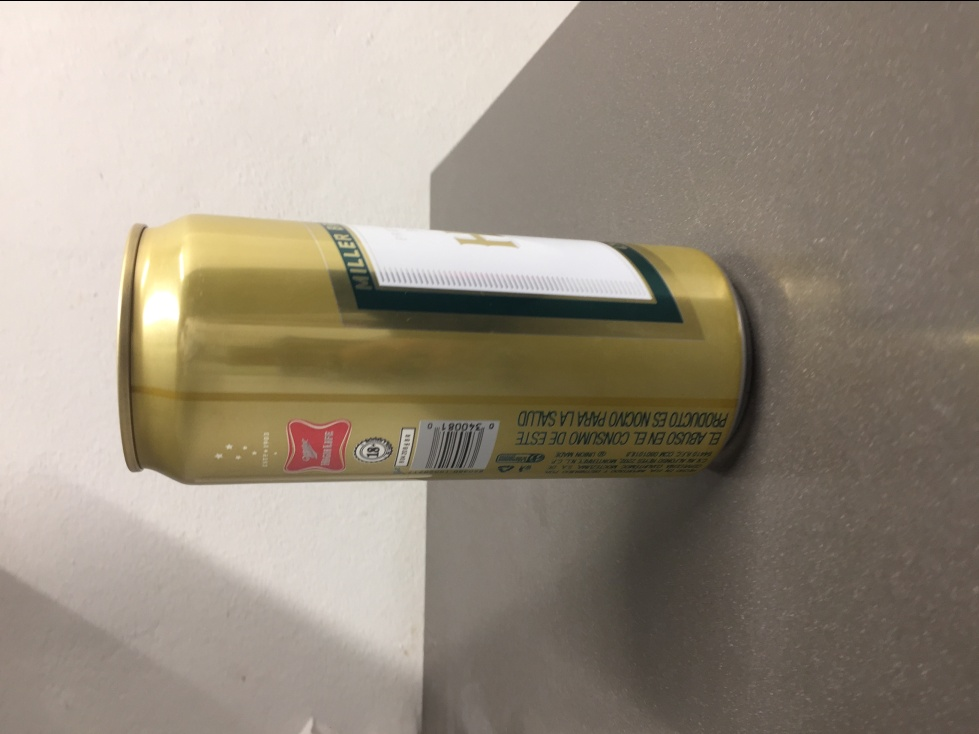miller: (117, 205, 755, 485)
